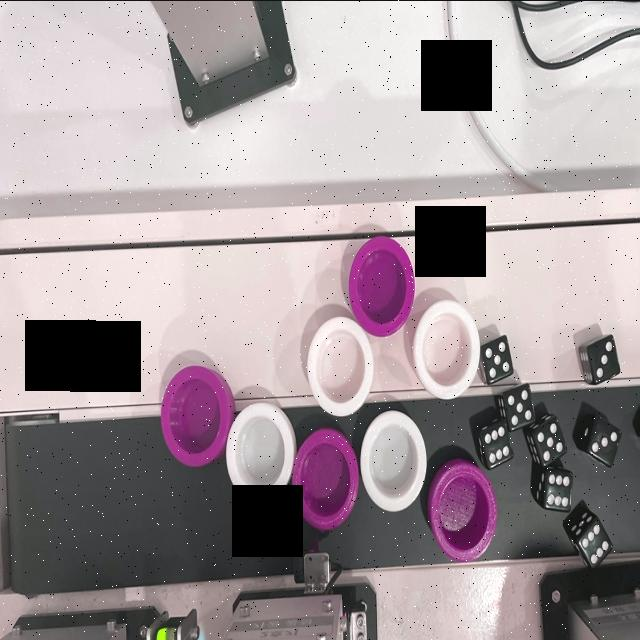DICE3: (590, 416, 620, 464), (592, 342, 616, 378)
DICE5: (481, 337, 513, 381), (536, 418, 566, 460), (506, 386, 536, 428)
DICE6: (580, 522, 612, 565), (480, 422, 510, 464), (546, 467, 572, 514)
RedChip: (159, 362, 226, 468), (293, 432, 355, 528), (352, 240, 412, 336), (432, 464, 492, 560)
WhiteChip: (223, 395, 293, 503), (362, 406, 429, 514), (412, 297, 476, 400), (311, 318, 374, 416)
